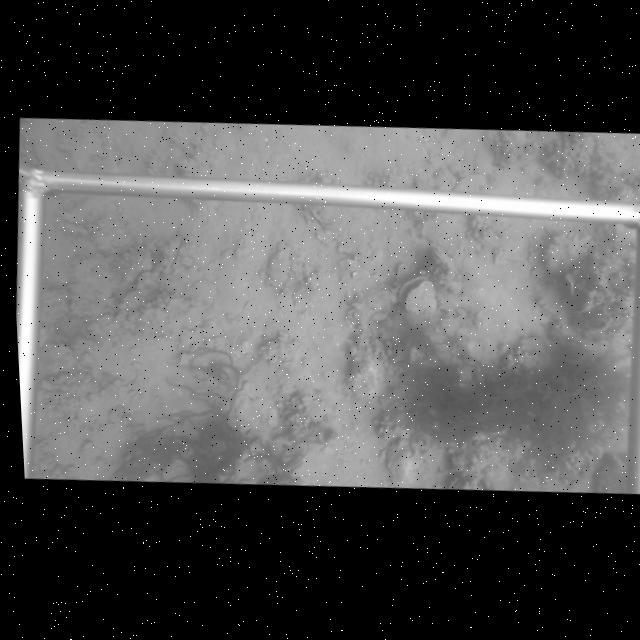Oyster-Closed: (428, 242, 461, 277), (162, 233, 185, 275)
Oyster-Indeterminate: (385, 435, 429, 485), (266, 247, 292, 291)
Oyster-Open: (396, 274, 436, 317)
